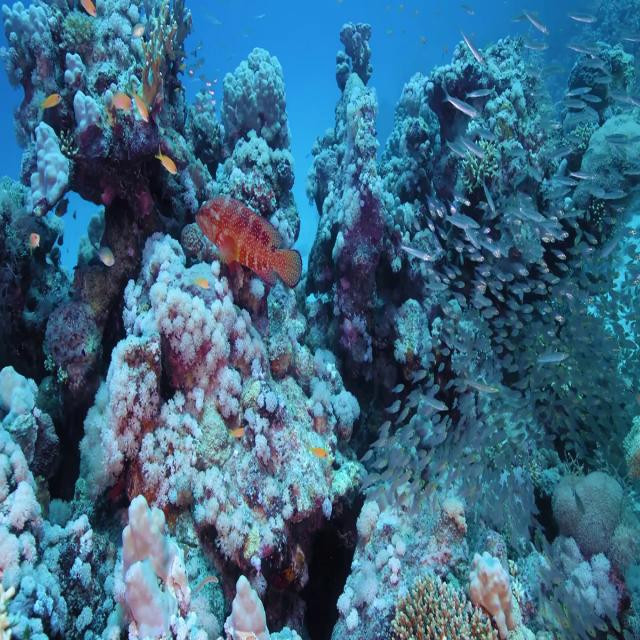fish: (194, 197, 301, 290)
